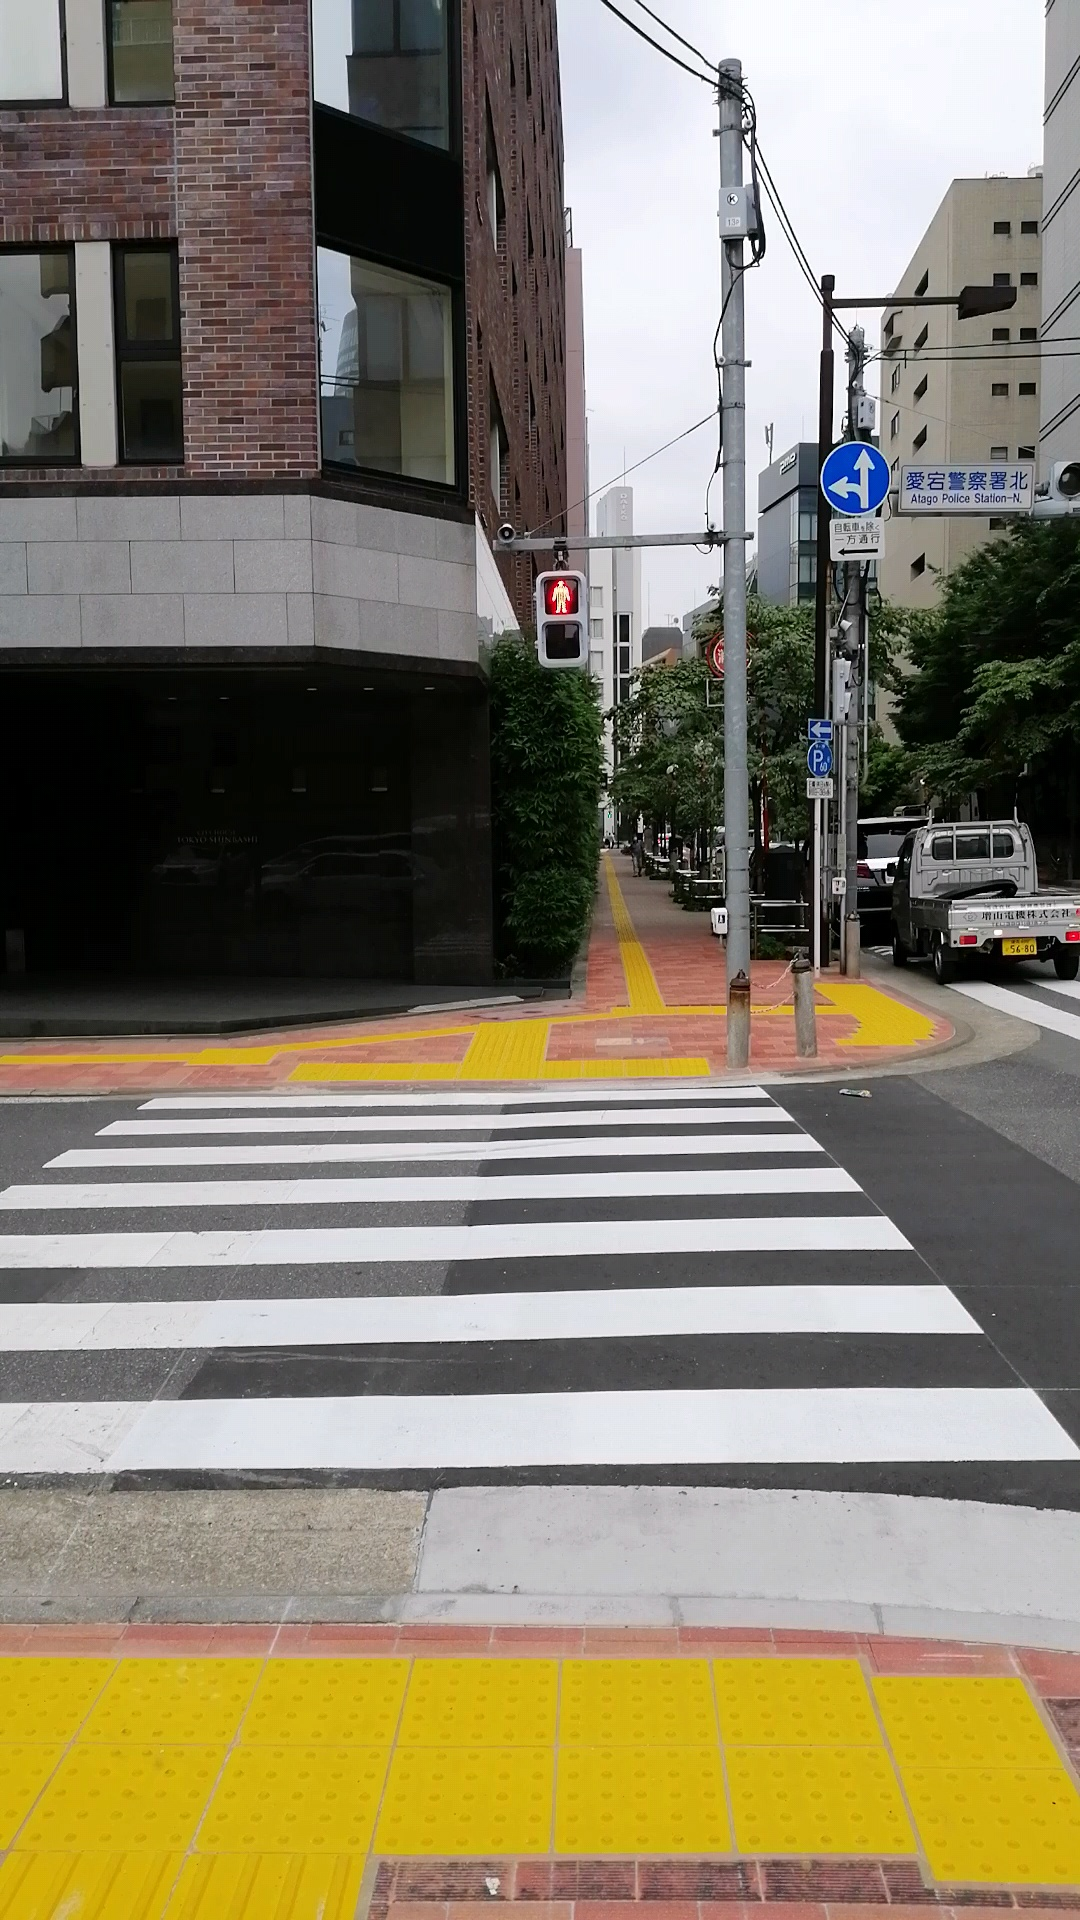red: (534, 571, 589, 665)
